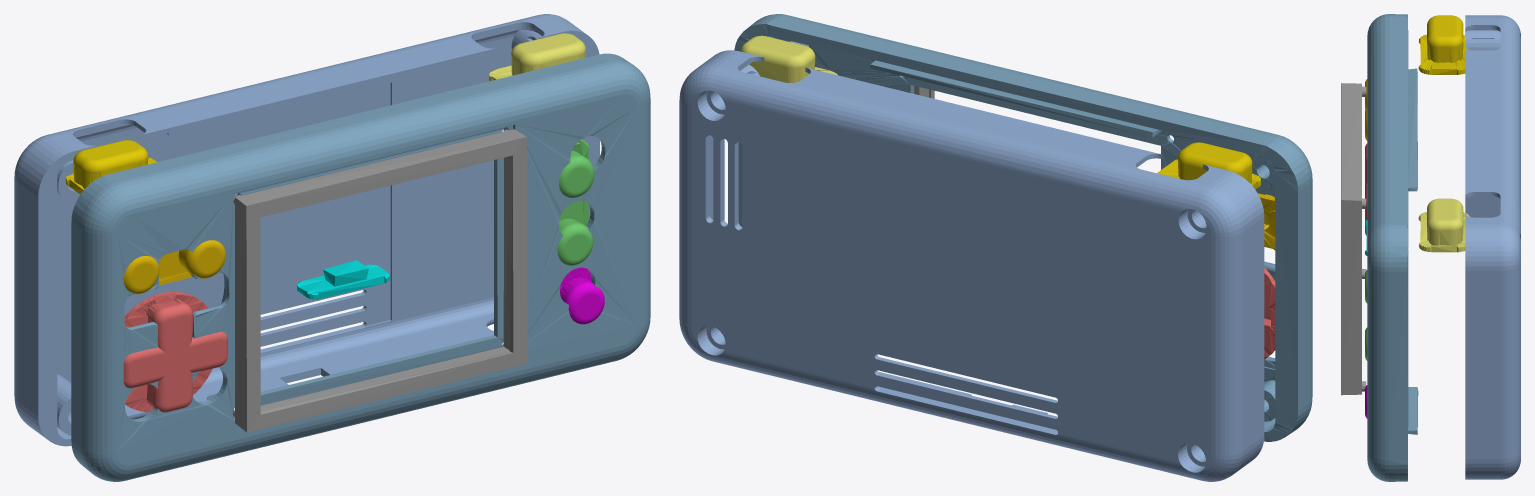
Rendered from case_only.glb.
3 views of the same model, side by side, from view 1: azimuth 30°, elevation 25°; view 2: azimuth 150°, elevation 25°; view 3: azimuth 270°, elevation 25° (orthographic). The views are drawn at different scales.
Parts seen in each view (by area): view 1: top_cover, back_cover, frame, d_Pad, A_B, start_select, L, R, power, menu; view 2: back_cover, top_cover, R, L, d_Pad, start_select; view 3: back_cover, top_cover, frame, L, R, d_Pad.
Boxes of the visible parts, x1,y1,x2,y2 form: top_cover: (71,53,650,481); back_cover: (14,14,599,446); frame: (233,129,527,432); d_Pad: (123,291,227,412); A_B: (557,139,594,265); start_select: (123,240,225,294); L: (65,140,156,194); R: (489,33,585,80); power: (297,260,389,299); menu: (560,267,604,324); back_cover: (679,50,1264,481); top_cover: (734,14,1312,441); R: (740,35,837,82); L: (1157,142,1260,189); d_Pad: (1264,267,1275,359); start_select: (1258,193,1275,250); back_cover: (1465,15,1520,479); top_cover: (1367,14,1418,481); frame: (1341,83,1366,395); L: (1418,15,1468,74); R: (1418,198,1469,252); d_Pad: (1365,143,1367,235).
Bounding box in the file's own units: 111 × 55.98 × 35.54.
